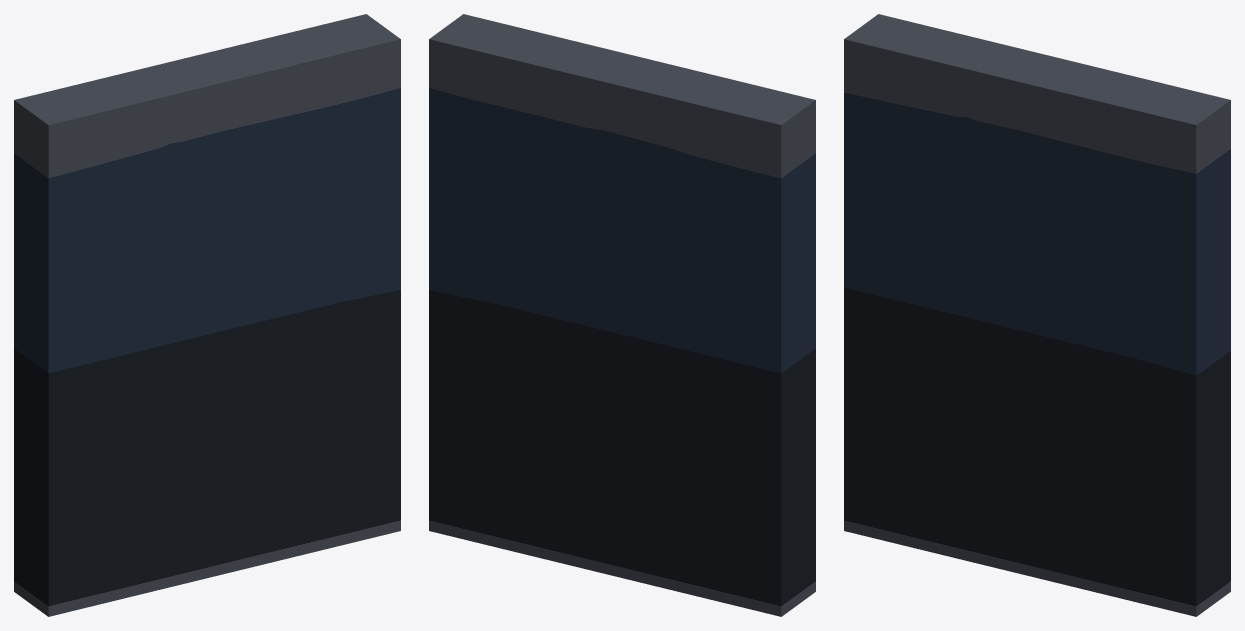
File: WallBroken 1.fbx
3 views of the same model, side by side, from view 1: azimuth 30°, elevation 25°; view 2: azimuth 150°, elevation 25°; view 3: azimuth 330°, elevation 25° (orthographic).
Visible parts, largest first — view 1: WallBroken002; view 2: WallBroken002; view 3: WallBroken002.
Part boxes in pixels (bbox=[...]): WallBroken002: bbox=[14, 14, 400, 616]; WallBroken002: bbox=[429, 14, 815, 616]; WallBroken002: bbox=[844, 14, 1230, 616].
Bounding box in the file's own units: 150 × 200 × 25.4.
Materials: 1 (1 with a texture image).
